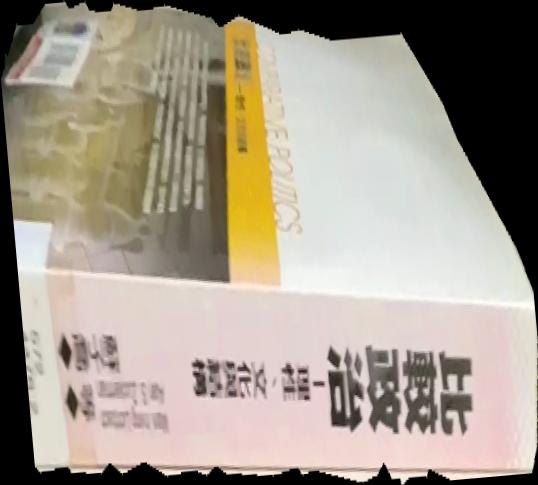flat: (1, 1, 538, 485)
